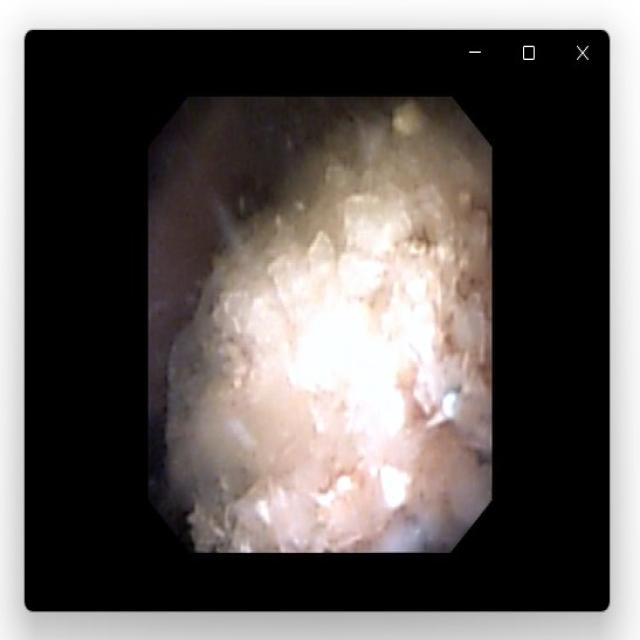stone: (174, 103, 486, 546)
